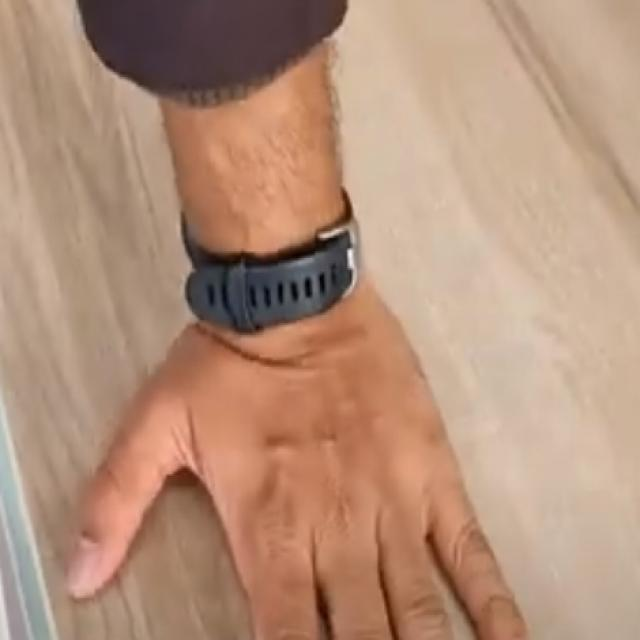Watch: (175, 215, 362, 334)
